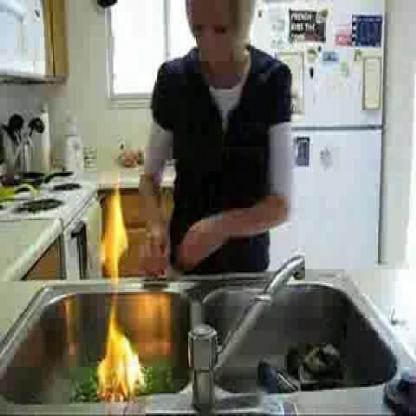Fire: (94, 174, 146, 402)
